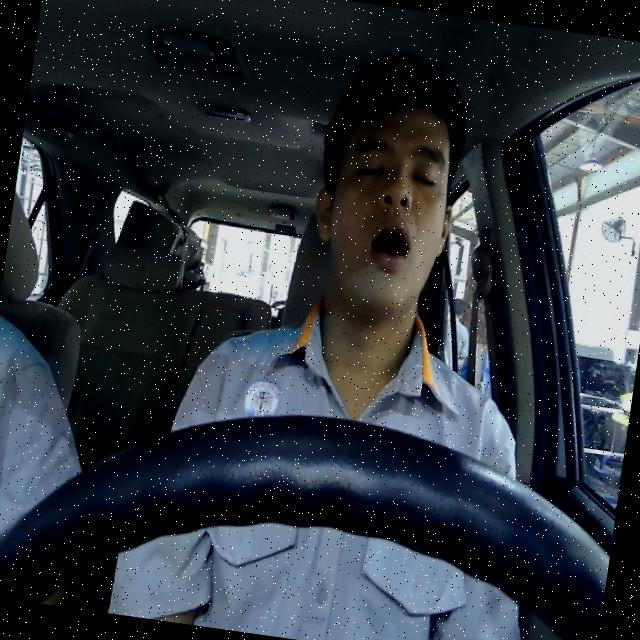yarning: (300, 92, 467, 321)
